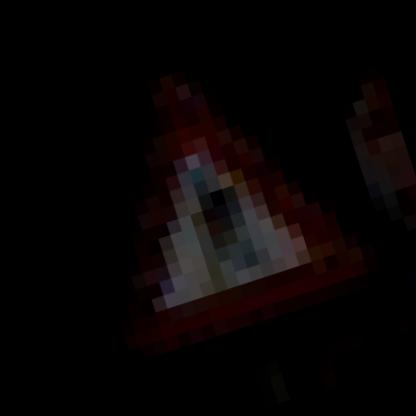crosswalk: (23, 8, 410, 402)
